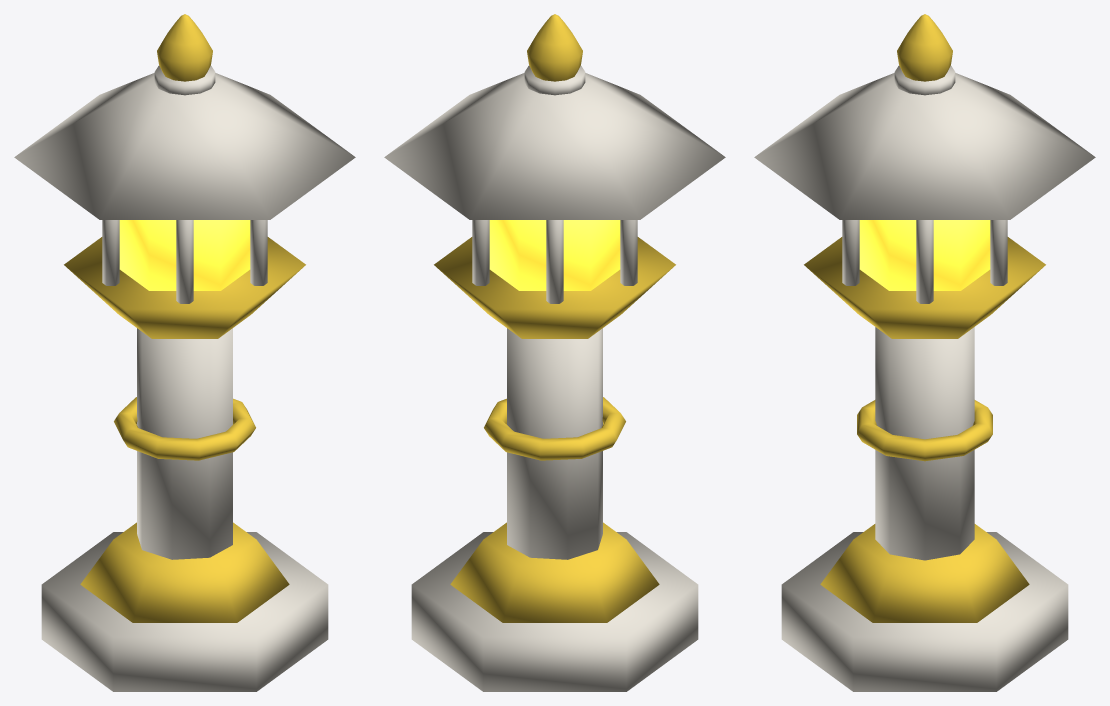
The model's file is den_da_hoa_sen.glb.
The picture shows the model from 3 angles, left to right: view 1: azimuth 30°, elevation 25°; view 2: azimuth 150°, elevation 25°; view 3: azimuth 270°, elevation 25°; orthographic projection.
Visible parts, largest first — view 1: den_da_hoa_sen; view 2: den_da_hoa_sen; view 3: den_da_hoa_sen.
Part boxes in pixels (<box>): den_da_hoa_sen: <box>14,14,355,691</box>; den_da_hoa_sen: <box>384,14,725,691</box>; den_da_hoa_sen: <box>754,14,1095,691</box>.
Bounding box in the file's own units: 1.07 × 2.5 × 1.24.
